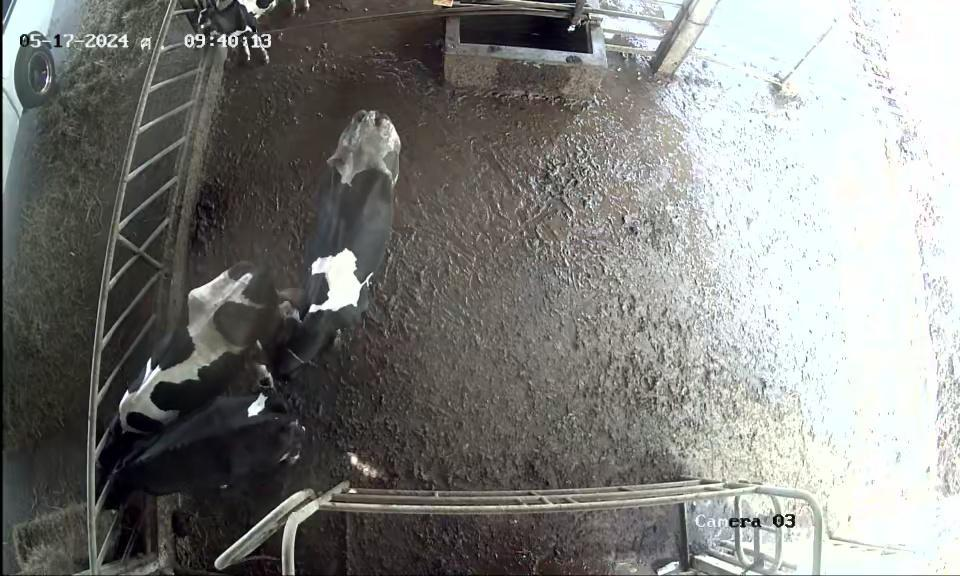eat: (56, 384, 175, 477), (61, 462, 173, 529)
stand: (232, 81, 435, 414)
